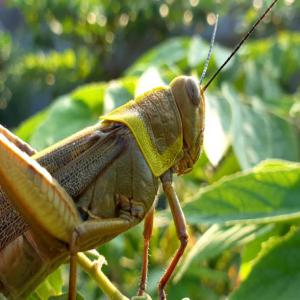locust: (6, 38, 236, 300)
